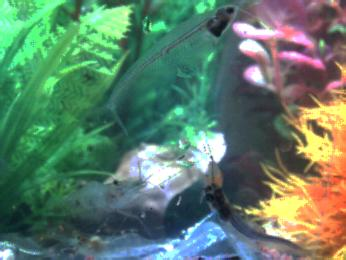X-ray fish: (1, 230, 59, 260), (196, 159, 228, 200)
glassfish: (89, 3, 242, 127), (201, 182, 320, 260)
siberian prawn: (53, 170, 154, 211), (49, 226, 164, 258)
